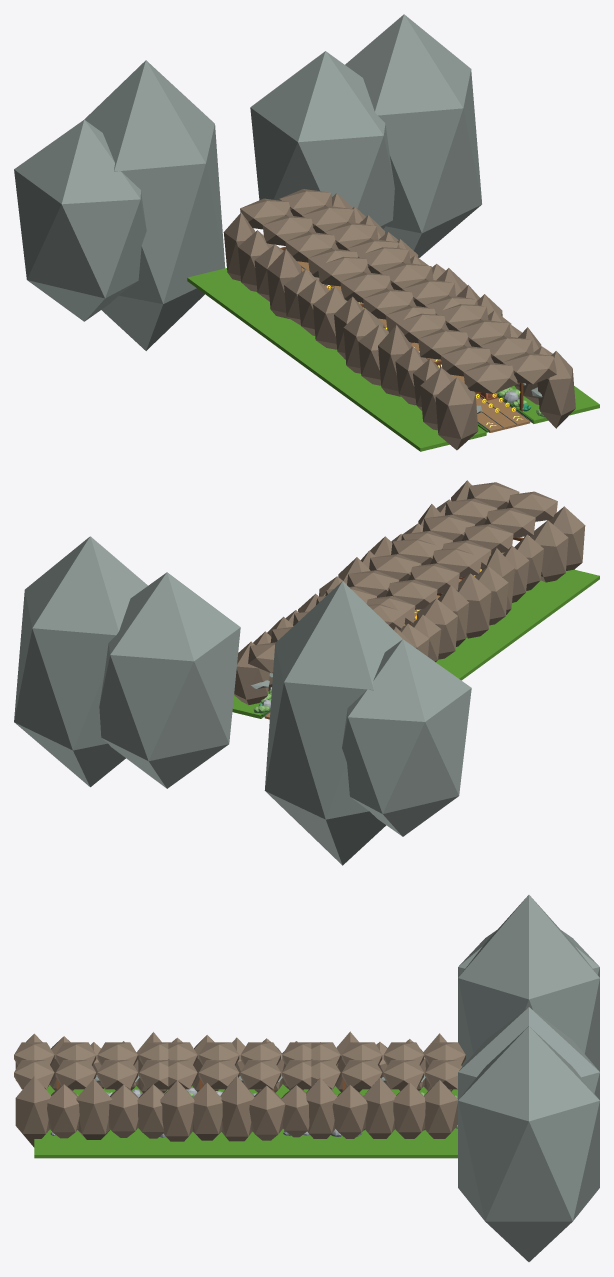
The model's file is cave_72m.glb.
3 renders of one model, top to bottom at view 1: azimuth 30°, elevation 25°; view 2: azimuth 150°, elevation 25°; view 3: azimuth 270°, elevation 25°, orthographic. The views are drawn at different scales.
Parts seen in each view (by area): view 1: Distant_mountain.009, Distant_mountain.011, Distant_mountain.008, Distant_mountain.010, Terrain_bank.018, Terrain_bank.022, Terrain_bank.020, Faceted_canyon_wall.030, Faceted_canyon_wall.035, Faceted_canyon_wall.034, Cave_roof, Faceted_canyon_wall.051 (+33 smaller); view 2: Distant_mountain.009, Distant_mountain.010, Distant_mountain.011, Distant_mountain.008, Terrain_bank.018, Terrain_bank.020, Faceted_canyon_wall.031, Faceted_canyon_wall.041, Faceted_canyon_wall.059, Faceted_canyon_wall.043, Faceted_canyon_wall.030, Cave_roof.001 (+21 smaller); view 3: Distant_mountain.011, Distant_mountain.009, Distant_mountain.010, Terrain_bank.019, Terrain_bank.023, Terrain_bank.021, Faceted_canyon_wall.035, Faceted_canyon_wall.047, Faceted_canyon_wall.045, Faceted_canyon_wall.037, Faceted_canyon_wall.059, Faceted_canyon_wall.048 (+34 smaller).
Part boxes in pixels (x1,y1,x2,y2): Distant_mountain.009: (84, 60, 225, 350); Distant_mountain.011: (345, 14, 481, 257); Distant_mountain.008: (14, 119, 146, 321); Distant_mountain.010: (250, 51, 394, 229); Terrain_bank.018: (342, 384, 486, 451); Terrain_bank.022: (187, 268, 300, 337); Terrain_bank.020: (265, 326, 371, 394); Faceted_canyon_wall.030: (435, 377, 478, 450); Faceted_canyon_wall.035: (537, 351, 575, 428); Faceted_canyon_wall.034: (378, 325, 411, 396); Cave_roof: (463, 362, 517, 393); Faceted_canyon_wall.051: (267, 249, 301, 318); Distant_mountain.009: (264, 581, 402, 865); Distant_mountain.010: (99, 572, 240, 788); Distant_mountain.011: (14, 536, 147, 787); Distant_mountain.008: (342, 639, 471, 836); Terrain_bank.018: (495, 569, 599, 634); Terrain_bank.020: (436, 624, 523, 680); Faceted_canyon_wall.031: (530, 520, 568, 582); Faceted_canyon_wall.041: (457, 573, 491, 638); Faceted_canyon_wall.059: (234, 641, 269, 704); Faceted_canyon_wall.043: (417, 598, 457, 659); Faceted_canyon_wall.030: (548, 506, 585, 570); Cave_roof.001: (483, 507, 535, 537); Distant_mountain.011: (458, 1026, 599, 1261); Distant_mountain.009: (458, 895, 599, 1071); Distant_mountain.010: (458, 1007, 599, 1100); Terrain_bank.019: (34, 1128, 177, 1158); Terrain_bank.023: (320, 1128, 457, 1158); Terrain_bank.021: (177, 1129, 320, 1158); Faceted_canyon_wall.035: (15, 1076, 51, 1147); Faceted_canyon_wall.047: (220, 1076, 254, 1141); Faceted_canyon_wall.045: (160, 1080, 194, 1141); Faceted_canyon_wall.037: (76, 1079, 112, 1139); Faceted_canyon_wall.059: (424, 1080, 457, 1138); Faceted_canyon_wall.048: (249, 1085, 285, 1140).
Size of the model in its own units: 79.21 by 49.61 by 98.31.
14 materials, 3 textured.
